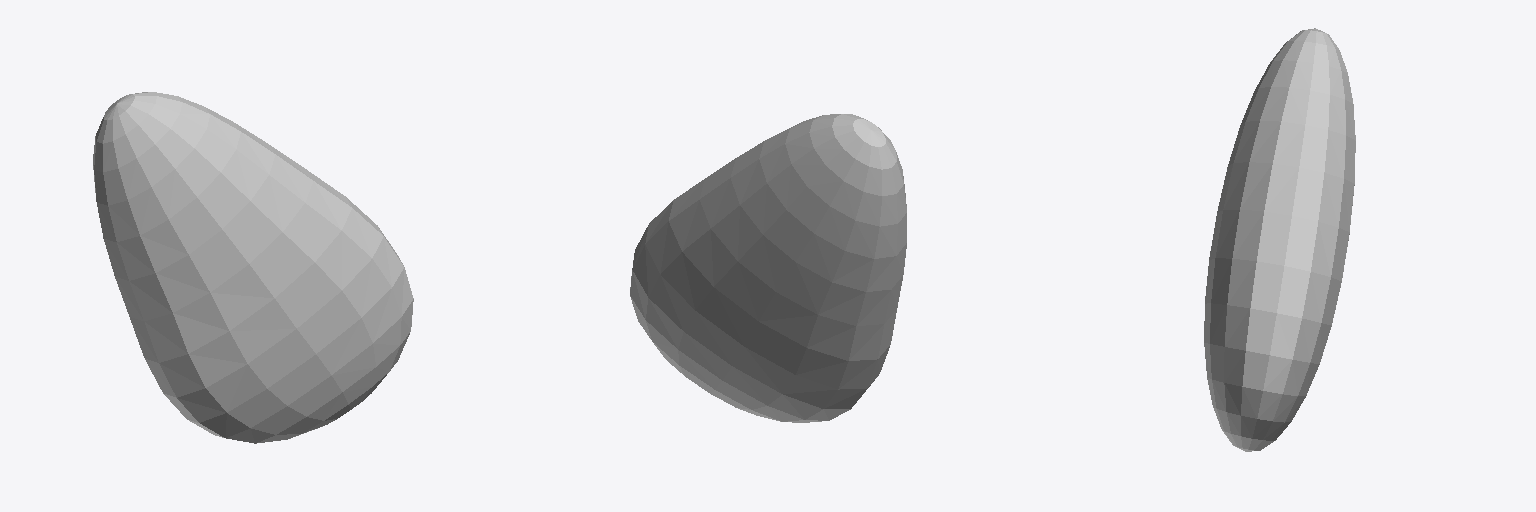
File: leftWing.obj
3 views of the same model, side by side, from view 1: azimuth 30°, elevation 25°; view 2: azimuth 150°, elevation 25°; view 3: azimuth 270°, elevation 25° (orthographic).
Bounding box in the file's own units: 1.11 × 1.27 × 0.5022.